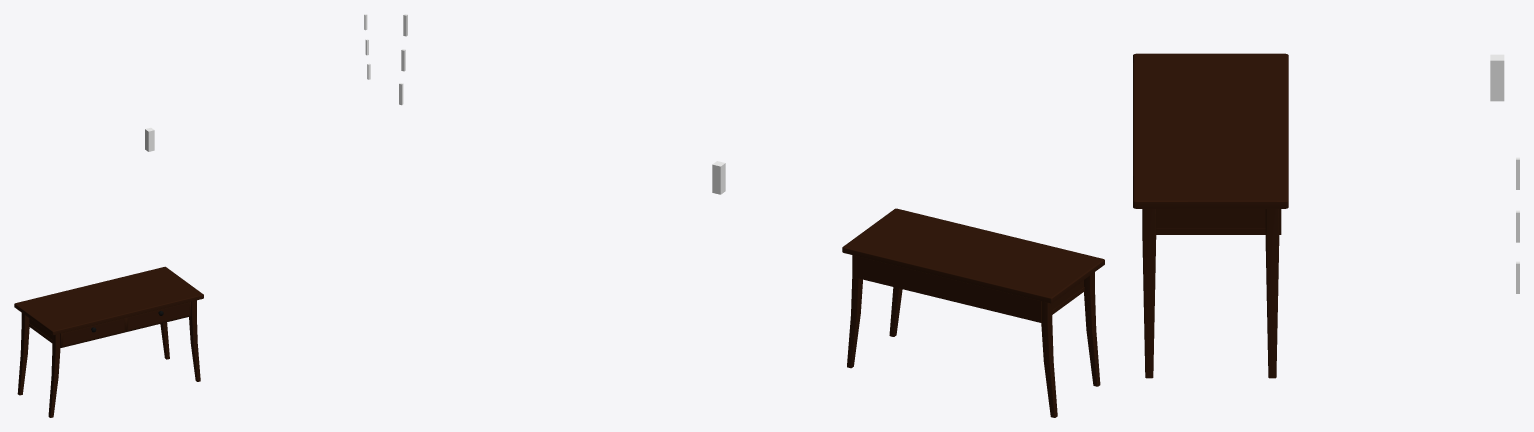
The model's file is table.dae.
3 views of the same model, side by side, from view 1: azimuth 30°, elevation 25°; view 2: azimuth 150°, elevation 25°; view 3: azimuth 270°, elevation 25° (orthographic). The views are drawn at different scales.
Visible parts, largest first — view 1: table, table_drawer_r, table_drawer_l; view 2: table; view 3: table, pCube1.
Boxes of the visible parts, x1,y1,x2,y2 form: table: [14, 266, 203, 417]; table_drawer_r: [60, 317, 126, 347]; table_drawer_l: [126, 302, 191, 331]; table: [842, 208, 1104, 417]; table: [1133, 53, 1288, 378]; pCube1: [1490, 54, 1504, 101].
Size of the model in its own units: 2.73 by 1.49 by 1.11.
